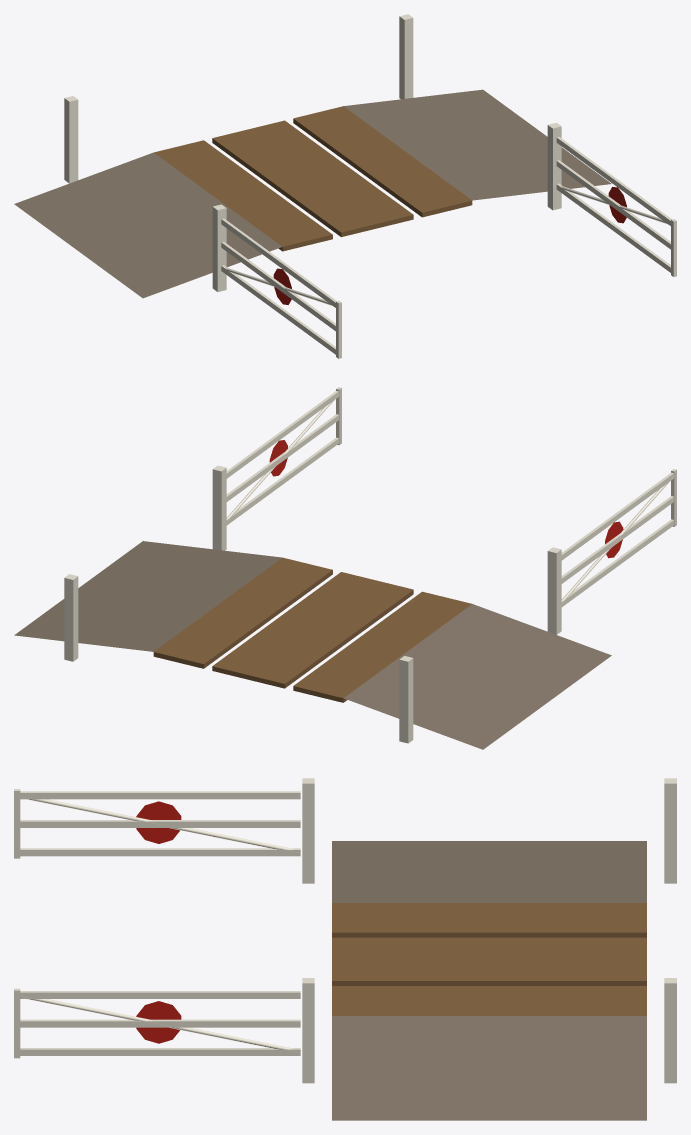
Rendered from level_crossing.glb.
3 renders of one model, top to bottom at view 1: azimuth 30°, elevation 25°; view 2: azimuth 150°, elevation 25°; view 3: azimuth 270°, elevation 25°, orthographic. The views are drawn at different scales.
Parts seen in each view (by area): view 1: Body; view 2: Body; view 3: Body.
Part boxes in pixels (x1,y1,x2,y2): Body: (14,14,676,358); Body: (14,387,676,749); Body: (14,778,676,1120).
Size of the model in its own units: 8.4 by 1.4 by 8.42.
